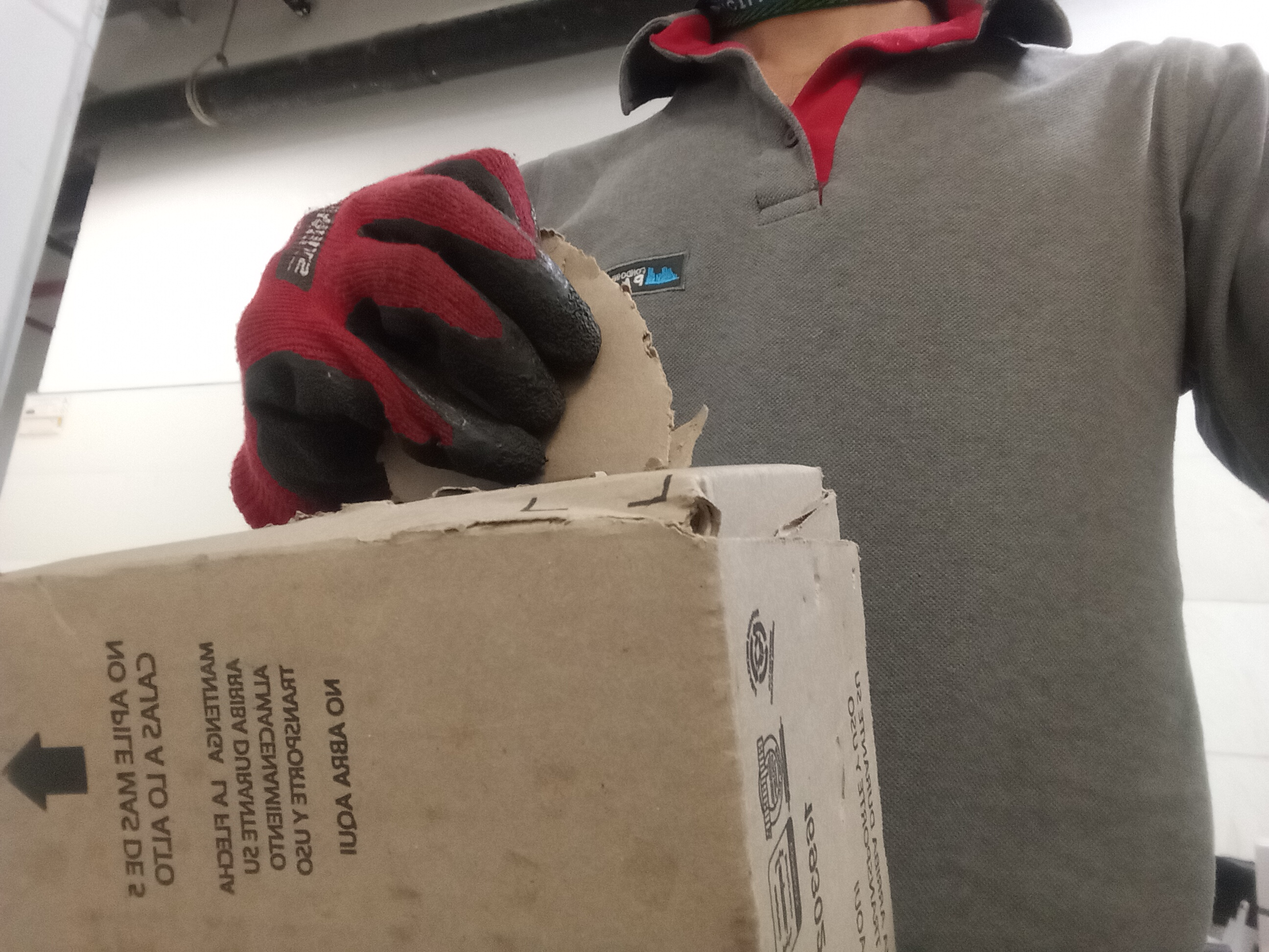Carton: (0, 465, 913, 948)
